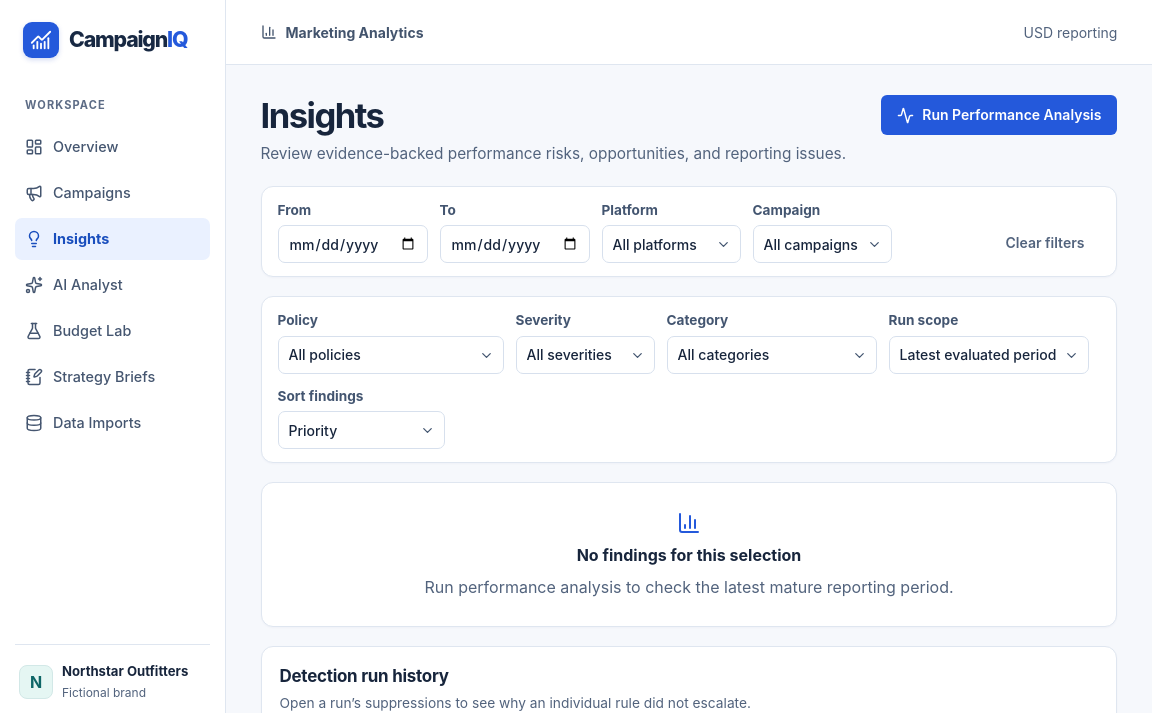
Test case: runs deterministic detection explicitly and shows and filters persisted findings
The width and height of the screenshot is (1152, 713).
Check: the text "No findings for this selection" is shown, box 577,543 -> 801,567
Click the button "Run Performance Analysis". click: [999, 115]
box: 881,95 -> 1118,135
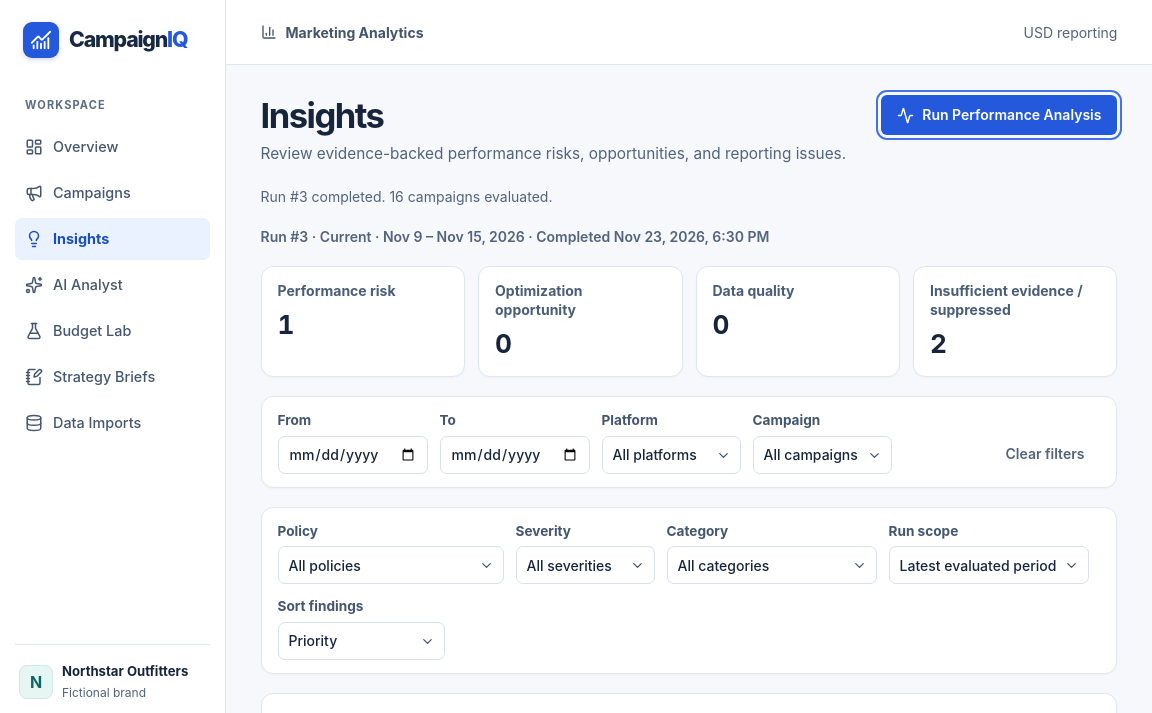
Select "D-02 · ROAS below target" in the dropdown labelled "Policy". click: [390, 565]
box: 278,546 -> 504,584
(page scrolled)
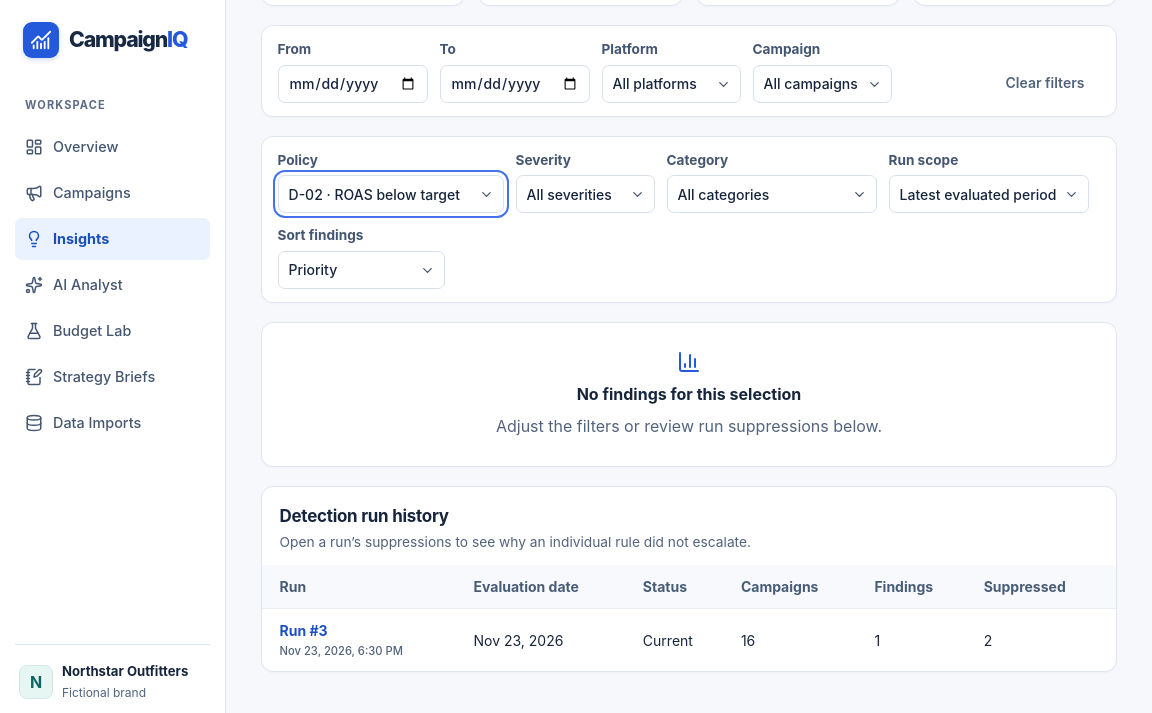
Check: the text "No findings for this selection" is shown, box 577,382 -> 801,406
